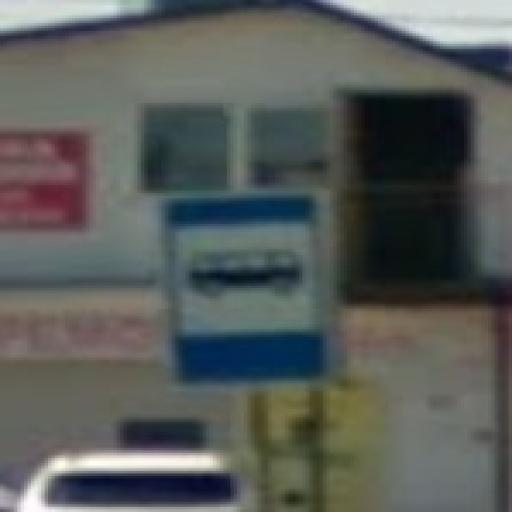traffic_sign: (156, 191, 331, 395)
